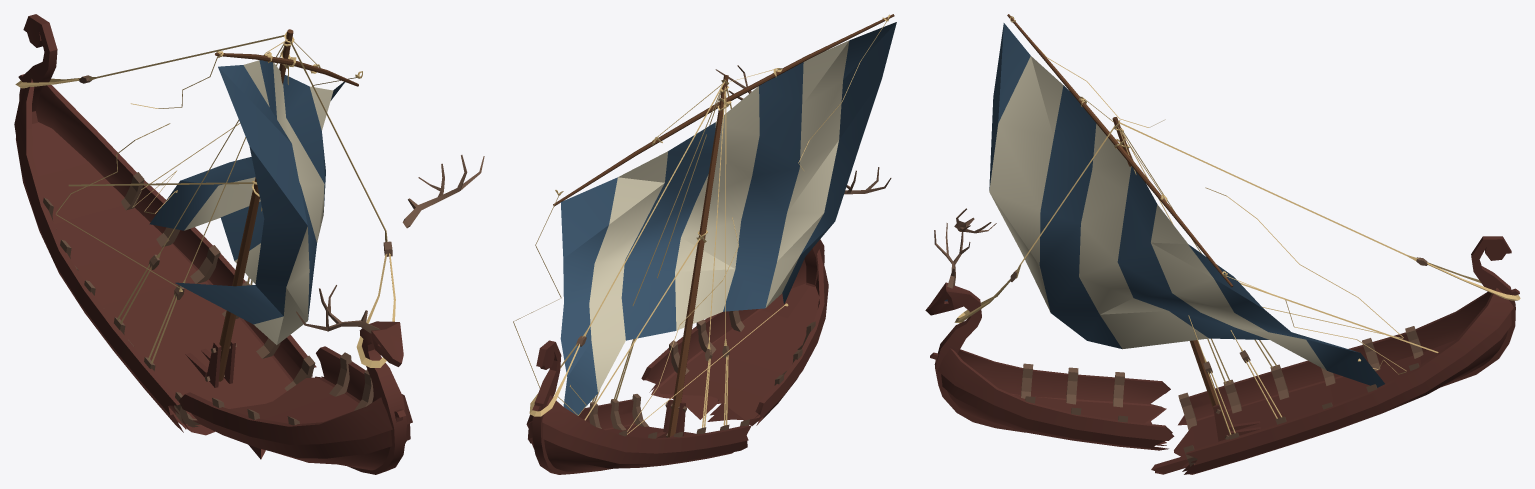
The picture shows the model from 3 angles, left to right: view 1: azimuth 30°, elevation 25°; view 2: azimuth 150°, elevation 25°; view 3: azimuth 270°, elevation 25°; orthographic projection. The views are drawn at different scales.
Parts seen in each view (by area): view 1: Hide.003_0; view 2: Hide.003_0; view 3: Hide.003_0.
Boxes of the visible parts, box(x1,y1,x2,y2) form: Hide.003_0: box(14, 14, 484, 474); Hide.003_0: box(513, 14, 896, 474); Hide.003_0: box(925, 14, 1520, 474).
Bounding box in the file's own units: 7.89 × 13.45 × 17.88.
1 material, 1 textured.
